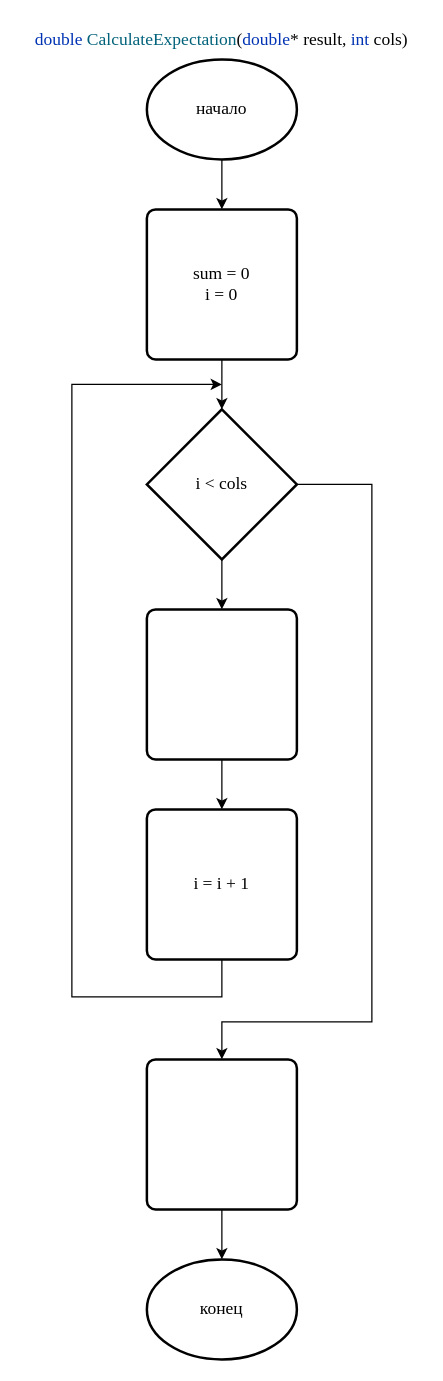
Some shapes in this 443 by 1381 pixel diagram are drawn without their labels. The shapes that lost their labels are listed below. From the top down, each one's centre as x and y in pixels, then its label:
At point (221, 684): "sum += result [ i ]".
At point (221, 1134): "return sum / cols".
